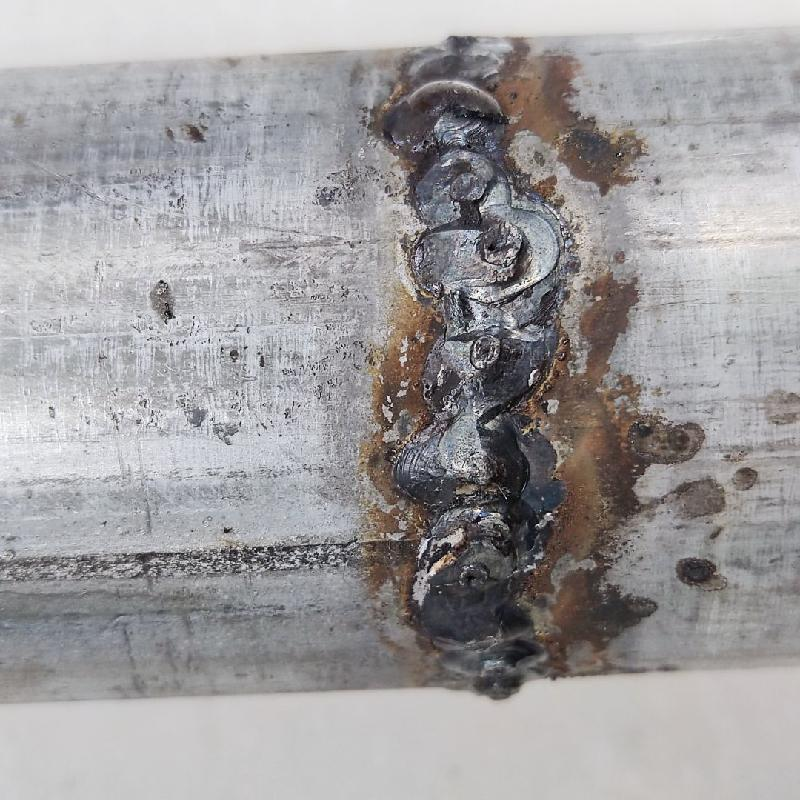Surface_pores: (468, 219, 513, 268), (461, 329, 508, 368), (458, 554, 492, 598)
Weld: (388, 83, 513, 151)
wrong_size: (384, 24, 555, 700)
